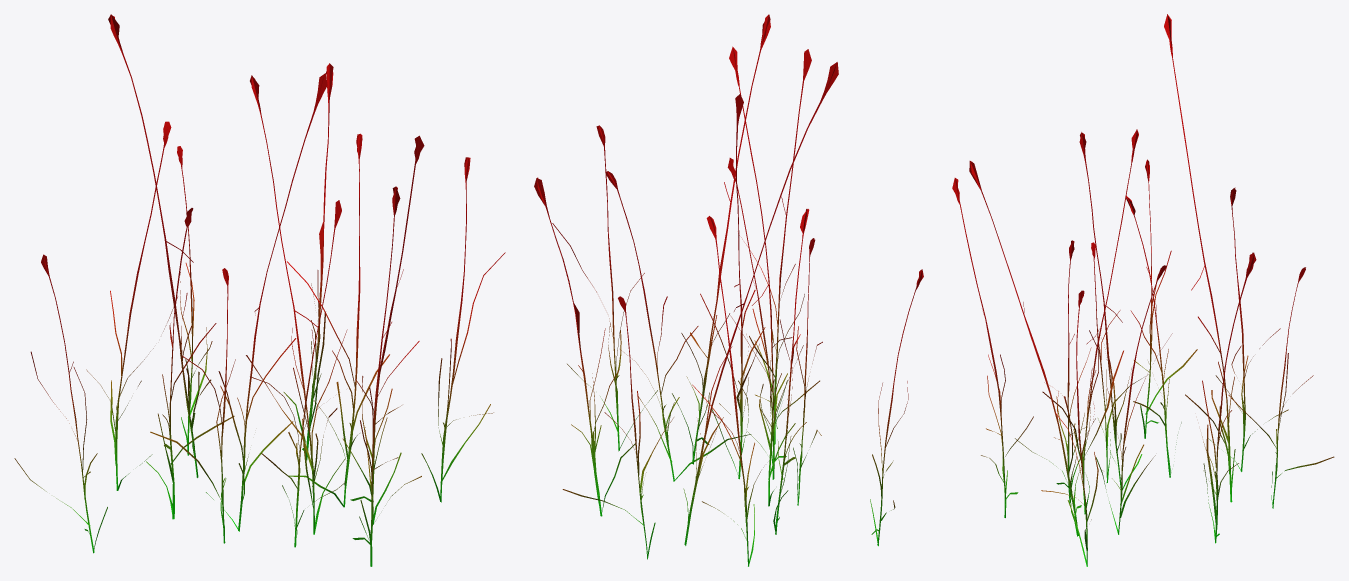
The model's file is Tundra Grass_LOD2_Var33_wk2oaeyqx.fbx.
3 views of the same model, side by side, from view 1: azimuth 30°, elevation 25°; view 2: azimuth 150°, elevation 25°; view 3: azimuth 270°, elevation 25° (orthographic). The views are drawn at different scales.
Visible parts, largest first — view 1: _o5yq_Var33_LOD2; view 2: _o5yq_Var33_LOD2; view 3: _o5yq_Var33_LOD2.
Boxes of the visible parts, box(x1,y1,x2,y2) form: _o5yq_Var33_LOD2: box(14, 14, 505, 566); _o5yq_Var33_LOD2: box(534, 14, 923, 566); _o5yq_Var33_LOD2: box(952, 14, 1334, 566).
Size of the model in its own units: 62.79 by 72.78 by 57.65.
